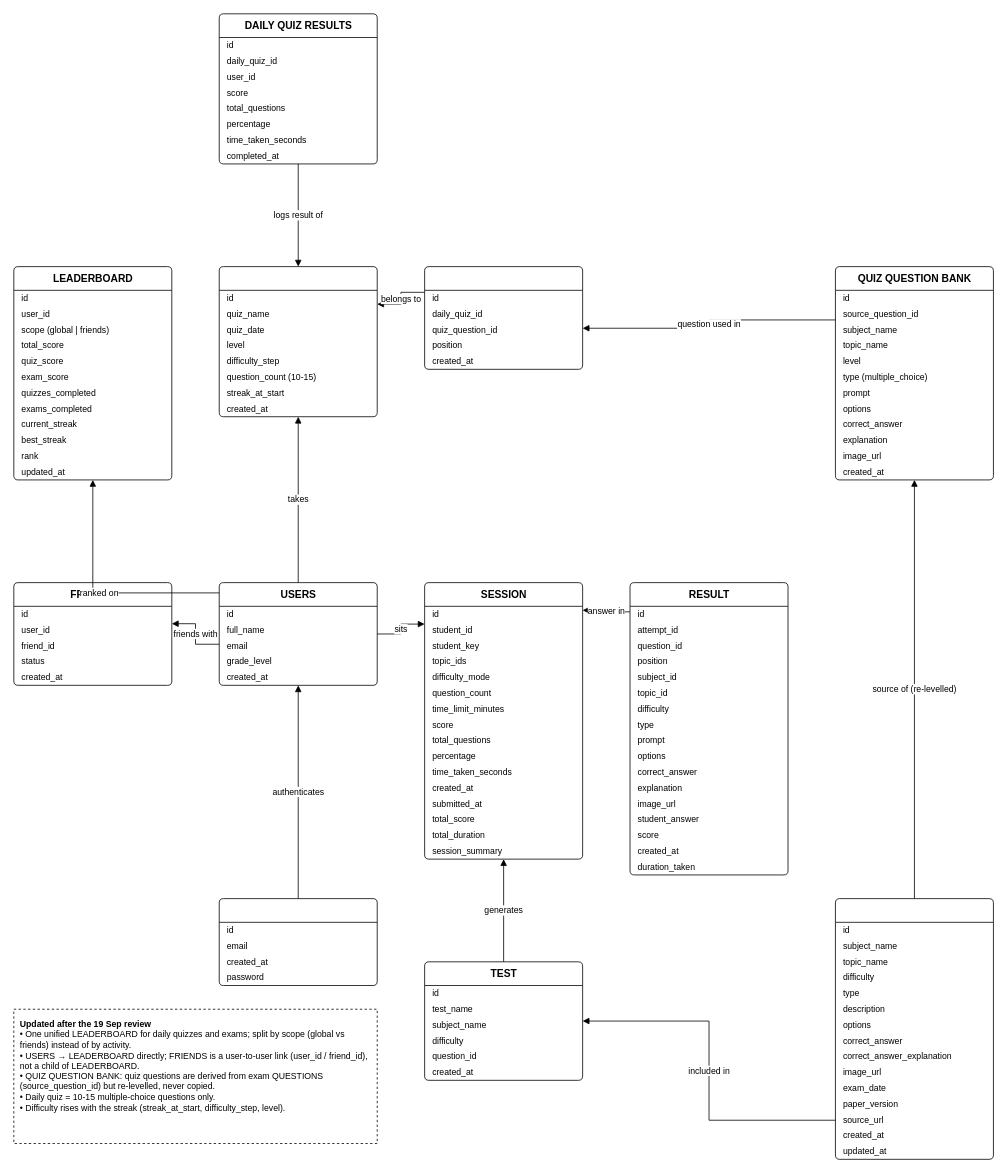
The diagram is 1007 pixels wide and 1173 high, and some of its shapes have lost their labels. The box of each missing label's shape, as (x1, y1, x2, y2) in pixels:
AUTH.USERS: (218, 898, 377, 986)
DAILY QUIZ: (218, 266, 377, 417)
DAILY QUIZ QUESTIONS: (424, 266, 583, 369)
QUESTIONS: (835, 898, 993, 1159)
